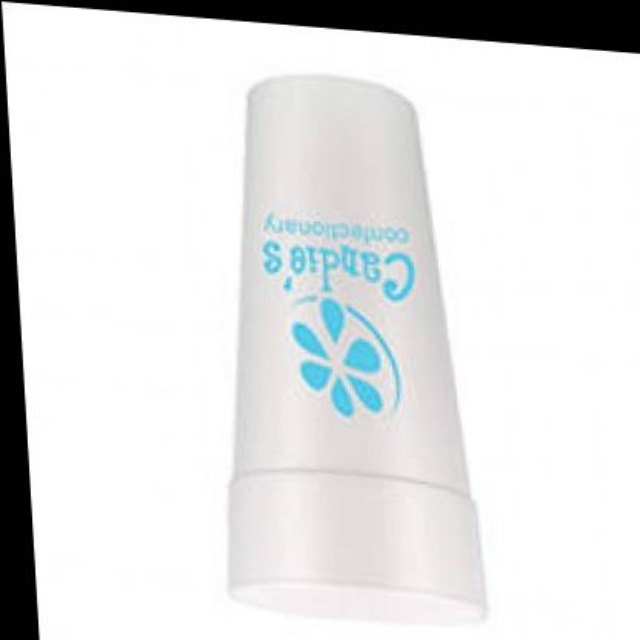trash: (229, 75, 483, 622)
